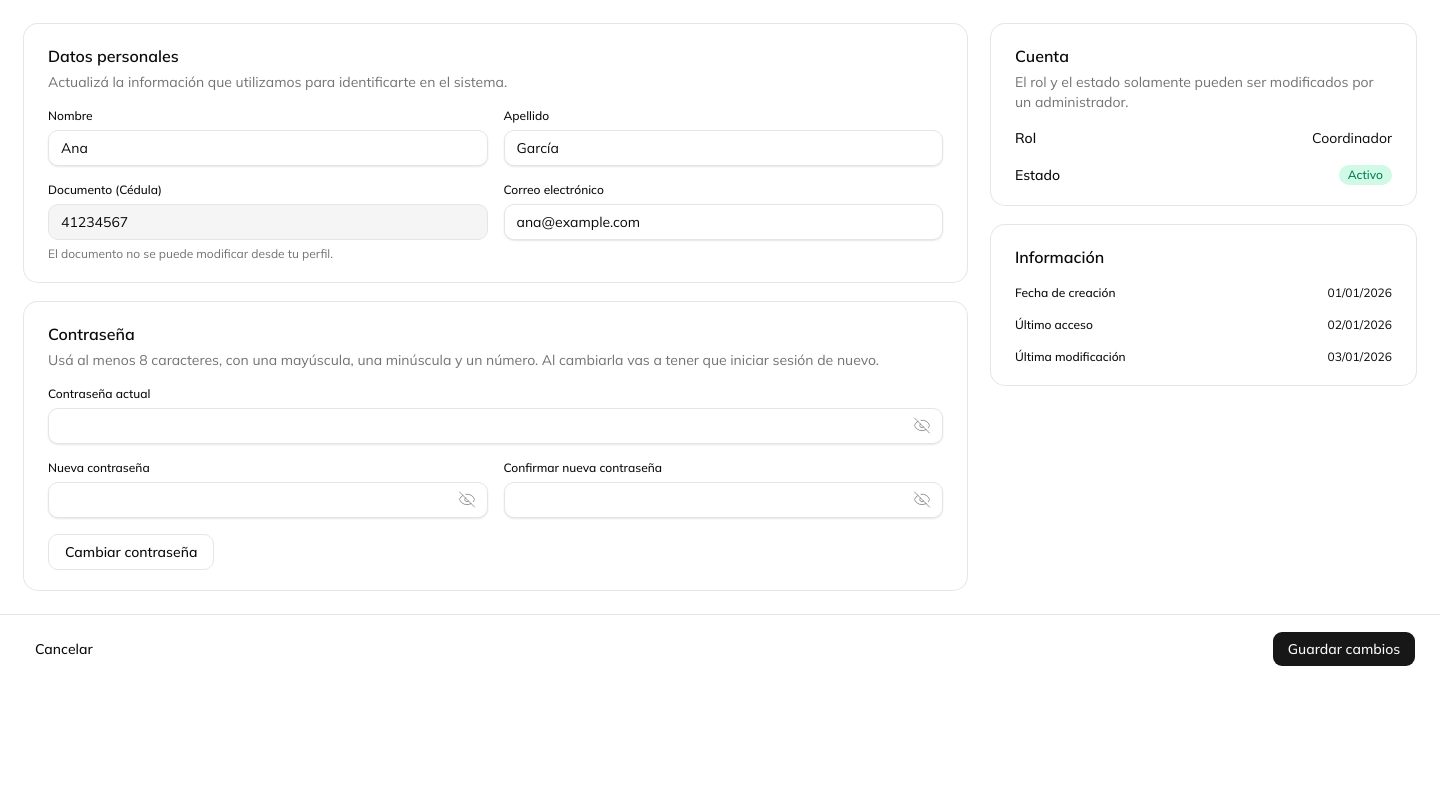
Scenario: ProfileForm › discards unsaved changes and validation errors
Clear the field labelled "Nombre" at (268, 148), box 48,130 -> 488,166
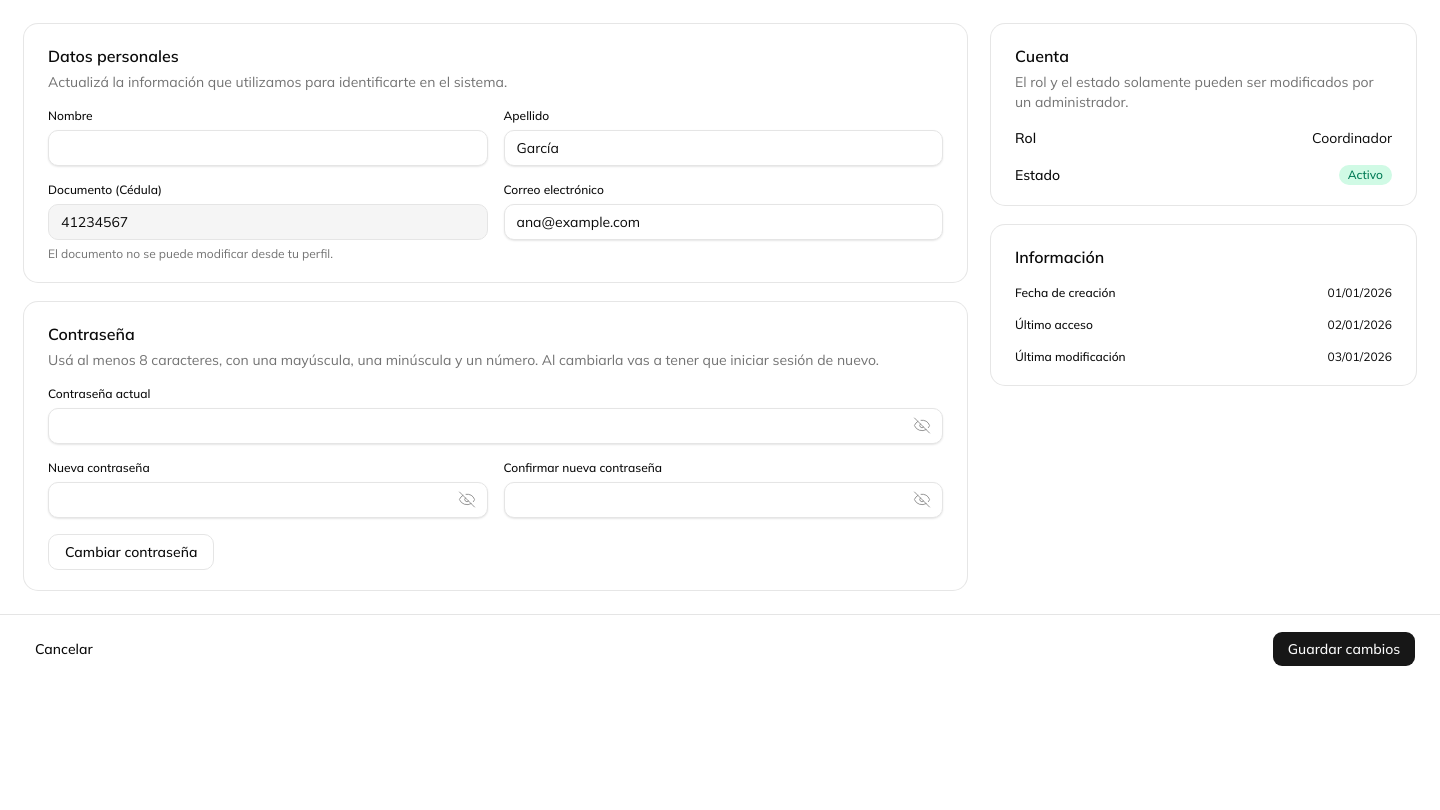
Replace the text in the field labelled "Apellido" with "Pérez" at (723, 148), box 504,130 -> 943,166
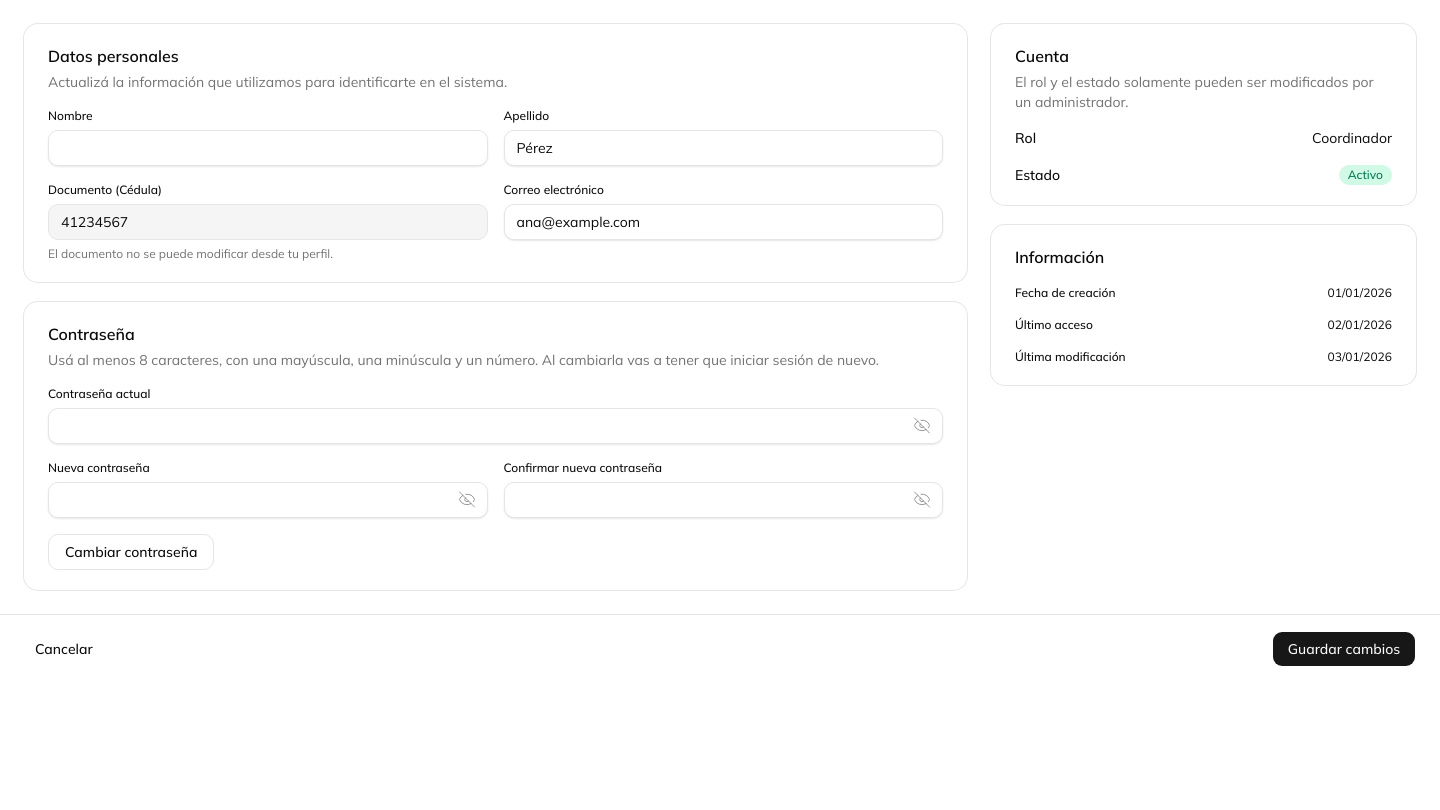
Replace the text in the field labelled "Correo electrónico" with "invalid-email" at (723, 222), box 504,204 -> 943,240
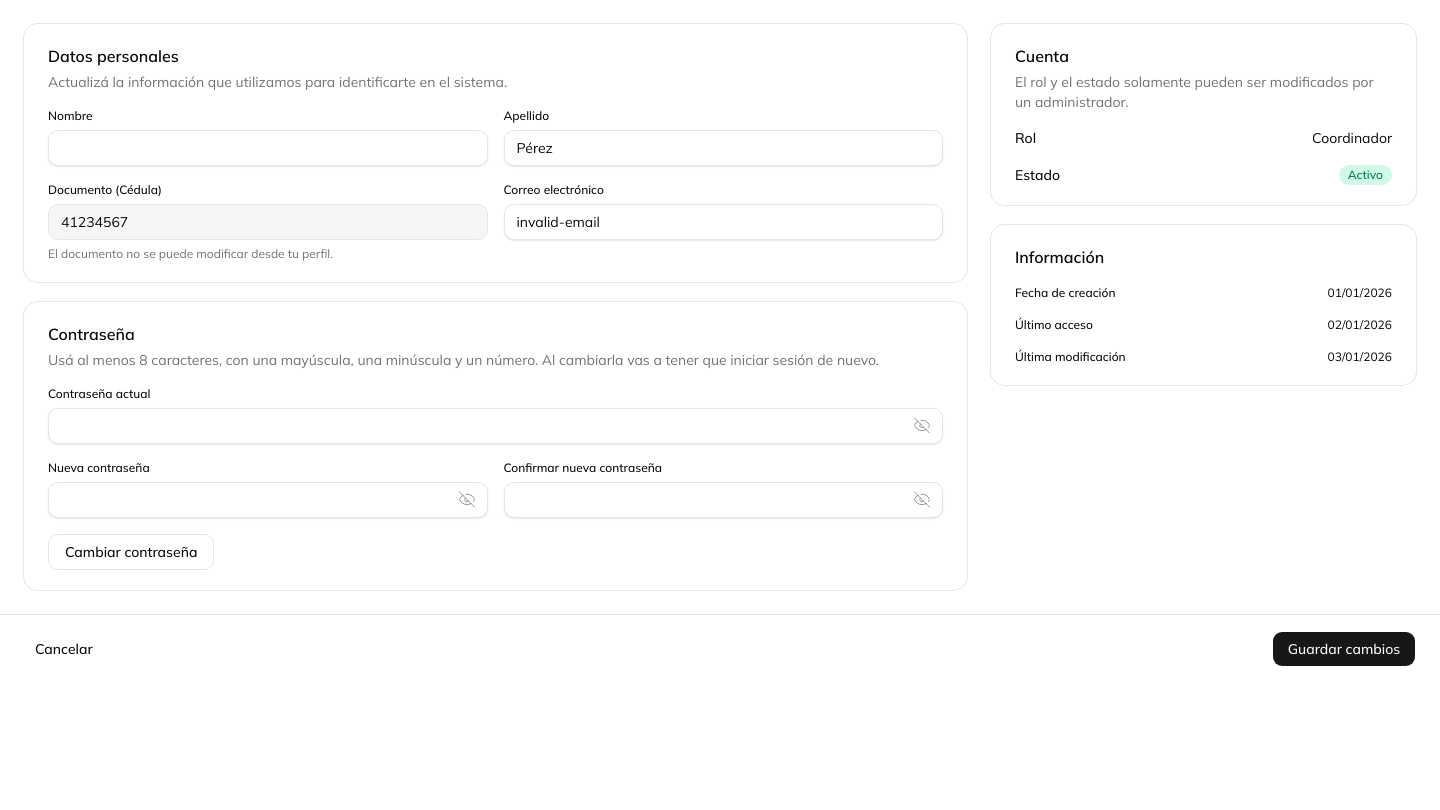
Submit the form that starts with "Datos personales", box 24,24 -> 967,282
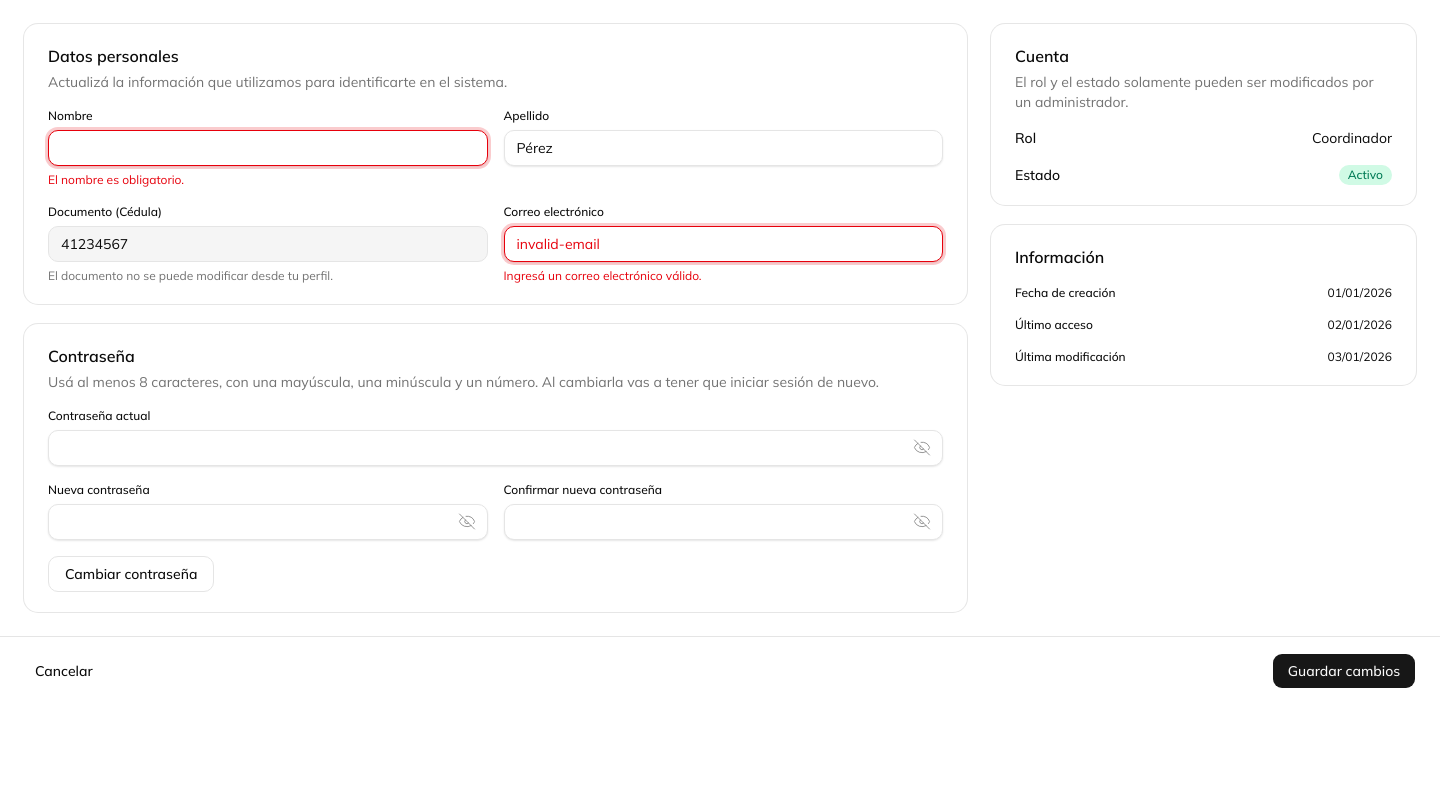
Now the text "El nombre es obligatorio." is shown, box 48,172 -> 184,187
Click the button "Cancelar" at (64, 671), box 24,653 -> 104,689
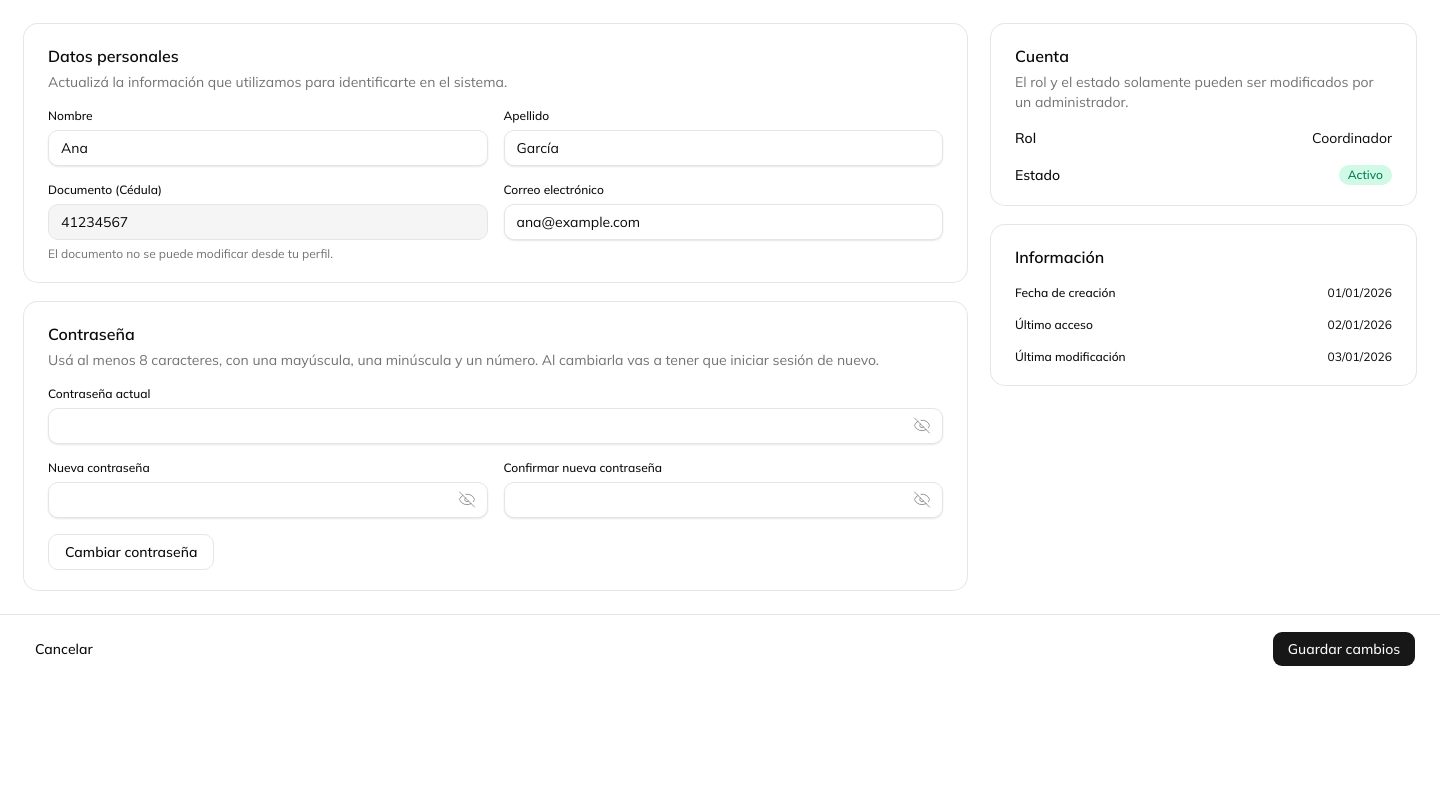
Now the field labelled "Nombre" holds "Ana", box 48,130 -> 488,166
Now the field labelled "Apellido" holds "García", box 504,130 -> 943,166
Now the field labelled "Correo electrónico" holds "ana@example.com", box 504,204 -> 943,240
